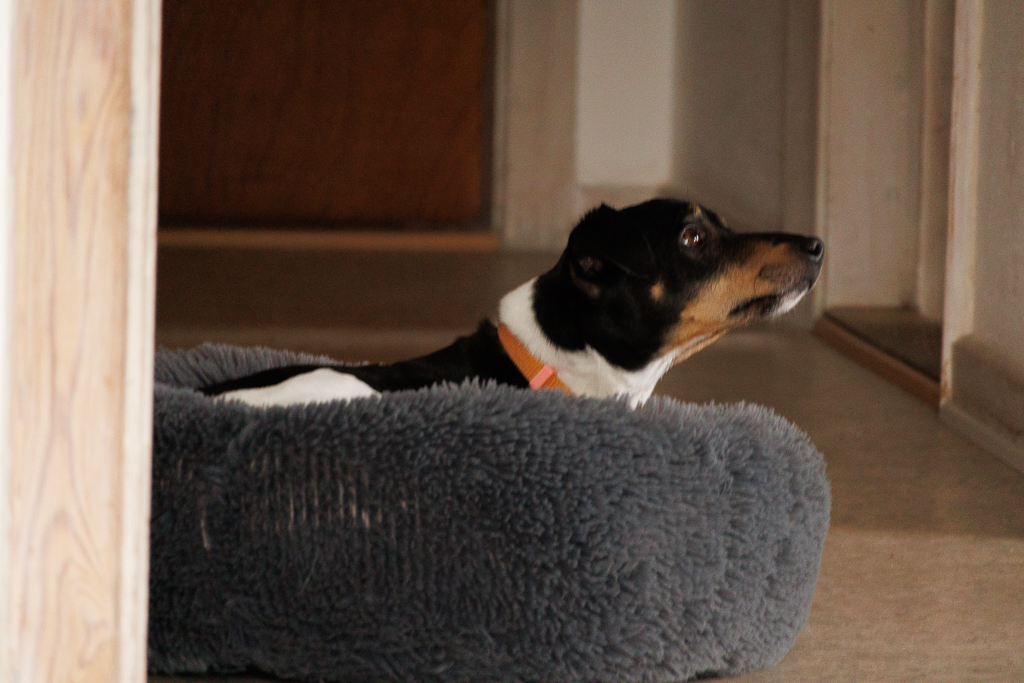Dog: (174, 186, 836, 430)
